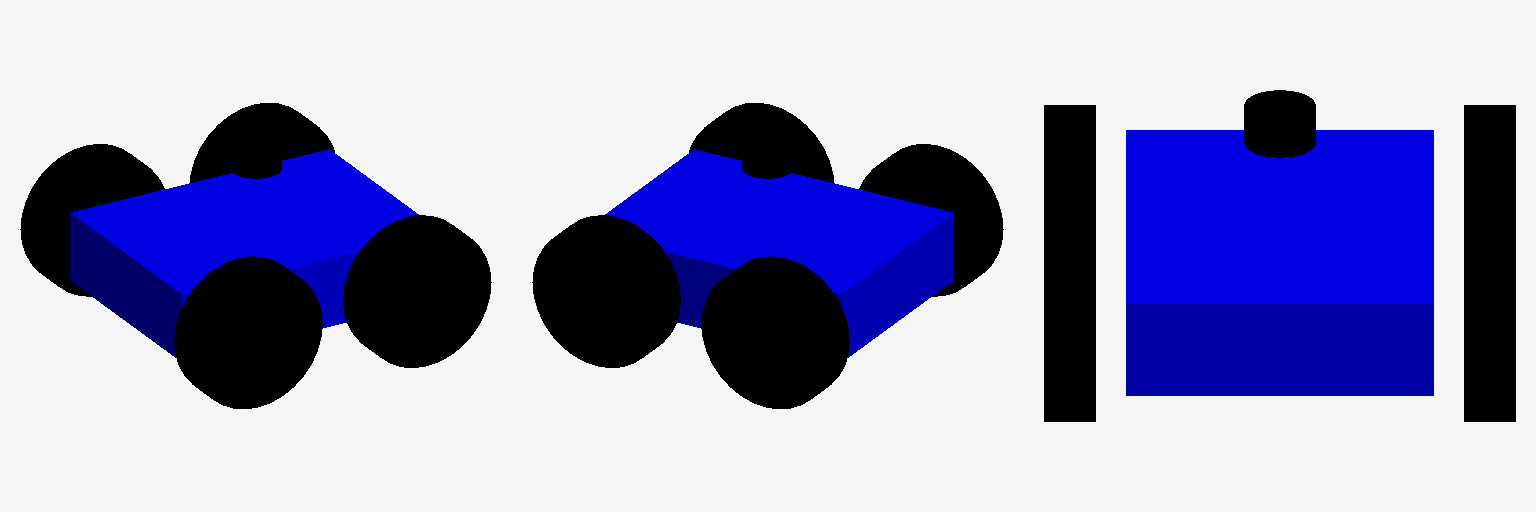
The robot description file, URDF, robot "simple_car":
<?xml version="1.0"?>
<robot name="simple_car">

  <link name="base_footprint"/>

  <joint name="base_footprint_joint" type="fixed">
    <parent link="base_footprint"/>
    <child link="chassis"/>
    <origin xyz="0 0 0.1" rpy="0 0 0"/>
  </joint>

  <link name="chassis">
    <visual>
      <geometry><box size="0.4 0.3 0.1"/></geometry>
      <material name="blue"><color rgba="0.0 0.0 1.0 1.0"/></material>
    </visual>
    <collision>
      <geometry><box size="0.4 0.3 0.1"/></geometry>
    </collision>
    <inertial>
      <mass value="2.0"/>
      <inertia ixx="0.016" ixy="0.0" ixz="0.0" iyy="0.028" iyz="0.0" izz="0.041"/>
    </inertial>
  </link>

  <gazebo reference="chassis">
    <material>Gazebo/Blue</material>
  </gazebo>

  <link name="right_back_wheel">
    <visual>
      <geometry><cylinder length="0.05" radius="0.1"/></geometry>
      <material name="black"><color rgba="0.0 0.0 0.0 1.0"/></material>
    </visual>
    <collision>
      <geometry><cylinder length="0.05" radius="0.1"/></geometry>
    </collision>
    <inertial>
      <mass value="0.5"/>
      <inertia ixx="0.002" ixy="0.0" ixz="0.0" iyy="0.002" iyz="0.0" izz="0.001"/>
    </inertial>
  </link>

  <gazebo reference="right_back_wheel">
    <material>Gazebo/Black</material>
  </gazebo>

  <joint name="right_back_wheel_joint" type="continuous">
    <parent link="chassis"/>
    <child link="right_back_wheel"/>
    <origin xyz="-0.13 -0.205 0.0" rpy="-1.5708 0 0"/>
    <axis xyz="0 0 1"/>
  </joint>

  <link name="left_back_wheel">
    <visual>
      <geometry><cylinder length="0.05" radius="0.1"/></geometry>
      <material name="black"><color rgba="0.0 0.0 0.0 1.0"/></material>
    </visual>
    <collision>
      <geometry><cylinder length="0.05" radius="0.1"/></geometry>
    </collision>
    <inertial>
      <mass value="0.5"/>
      <inertia ixx="0.002" ixy="0.0" ixz="0.0" iyy="0.002" iyz="0.0" izz="0.001"/>
    </inertial>
  </link>

  <gazebo reference="left_back_wheel">
    <material>Gazebo/Black</material>
  </gazebo>

  <joint name="left_back_wheel_joint" type="continuous">
    <parent link="chassis"/>
    <child link="left_back_wheel"/>
    <origin xyz="-0.13 0.205 0.0" rpy="-1.5708 0 0"/>
    <axis xyz="0 0 1"/>
  </joint>

  <link name="right_top_wheel">
    <visual>
      <geometry><cylinder length="0.05" radius="0.1"/></geometry>
      <material name="black"><color rgba="0.0 0.0 0.0 1.0"/></material>
    </visual>
    <collision>
      <geometry><cylinder length="0.05" radius="0.1"/></geometry>
    </collision>
    <inertial>
      <mass value="0.5"/>
      <inertia ixx="0.002" ixy="0.0" ixz="0.0" iyy="0.002" iyz="0.0" izz="0.001"/>
    </inertial>
  </link>

  <gazebo reference="right_top_wheel">
    <material>Gazebo/Black</material>
  </gazebo>

  <joint name="right_top_wheel_joint" type="continuous">
    <parent link="chassis"/>
    <child link="right_top_wheel"/>
    <origin xyz="0.13 -0.205 0.0" rpy="-1.5708 0 0"/>
    <axis xyz="0 0 1"/>
  </joint>

  <link name="left_top_wheel">
    <visual>
      <geometry><cylinder length="0.05" radius="0.1"/></geometry>
      <material name="black"><color rgba="0.0 0.0 0.0 1.0"/></material>
    </visual>
    <collision>
      <geometry><cylinder length="0.05" radius="0.1"/></geometry>
    </collision>
    <inertial>
      <mass value="0.5"/>
      <inertia ixx="0.002" ixy="0.0" ixz="0.0" iyy="0.002" iyz="0.0" izz="0.001"/>
    </inertial>
  </link>

  <gazebo reference="left_top_wheel">
    <material>Gazebo/Black</material>
  </gazebo>

  <joint name="left_top_wheel_joint" type="continuous">
    <parent link="chassis"/>
    <child link="left_top_wheel"/>
    <origin xyz="0.13 0.205 0.0" rpy="-1.5708 0 0"/>
    <axis xyz="0 0 1"/>
  </joint>

  <!-- Gazebo 控制插件 -->
  <gazebo>
    <plugin name="gazebo_ros_skid_steer_drive" filename="libgazebo_ros_diff_drive.so">
      <ros>
        <namespace>/</namespace>
        <remapping>cmd_vel:=cmd_vel</remapping>
        <remapping>odom:=odom</remapping>
      </ros>

      <num_wheel_pairs>2</num_wheel_pairs>

      <left_joint>left_top_wheel_joint</left_joint>
      <right_joint>right_top_wheel_joint</right_joint>

      <left_joint>left_back_wheel_joint</left_joint>
      <right_joint>right_back_wheel_joint</right_joint>

      <wheel_separation>0.41</wheel_separation>
      <wheel_diameter>0.20</wheel_diameter>
      <max_wheel_torque>20</max_wheel_torque>
      <max_wheel_acceleration>1.0</max_wheel_acceleration>

      <publish_odom>false</publish_odom>
      <publish_odom_tf>false</publish_odom_tf>
      <publish_wheel_tf>false</publish_wheel_tf>

      <odometry_frame>odom</odometry_frame>
      <robot_base_frame>base_footprint</robot_base_frame>
    </plugin>
  </gazebo>


<!-- Mid-360 雷达传感器 -->
  <link name="livox_frame">

    <!-- 外观设置 -->
    <visual>
      <geometry><cylinder length="0.04" radius="0.035"/></geometry>
      <material name="black"><color rgba="0.0 0.0 0.0 1.0"/></material>
    </visual>

    <!-- 碰撞设置 -->
    <collision>   
      <origin xyz="0 0 0" rpy="0 0 0"/>
      <geometry>
        <cylinder length="0.04" radius="0.035"/>
      </geometry>
    </collision>

    <!-- 惯性设置 -->
    <inertial>   
      <mass value="0.2"/>   <!-- 质量 -->
      <inertia ixx="0.0001" ixy="0.0" ixz="0.0" iyy="0.0001" iyz="0.0" izz="0.0001"/>
    </inertial>
  </link>

  <!-- 链接 -->
  <joint name="livox_joint" type="fixed">
    <parent link="chassis"/>
    <child link="livox_frame"/>
    <origin xyz="0 0 0.15" rpy="0 0 0"/>
  </joint>

  <!-- 雷达传感器设置 Gazebo 插件配置 -->
  <gazebo reference="livox_frame">
    <sensor type="ray" name="livox_mid360">
      <pose>0 0 0 0 0 0</pose>
      <always_on>true</always_on>
      <visualize>false</visualize>
      <update_rate>10</update_rate>

      <ray>
          <scan>
            <horizontal>
              <samples>360</samples>
              <resolution>1</resolution>
              <min_angle>-3.14159</min_angle>
              <max_angle>3.14159</max_angle>
            </horizontal>
            <vertical>
              <samples>50</samples>
              <resolution>1</resolution>
              <min_angle>-0.126</min_angle>
              <max_angle>0.963</max_angle>
            </vertical>
          </scan>
          <range>
            <min>0.1</min>
            <max>40.0</max>
            <resolution>0.01</resolution>
          </range>
          <noise>
            <type>gaussian</type>
            <mean>0.0</mean>
            <stddev>0.01</stddev>
          </noise>
      </ray>

      <plugin name="gazebo_ros_ray_sensor" filename="libgazebo_ros_ray_sensor.so">
        <ros>
          <namespace>/</namespace>
          <remapping>~/out:=/livox/lidar</remapping>   <!-- 强制映射 -->
        </ros>
        <output_type>sensor_msgs/PointCloud2</output_type>
        <frame_name>livox_frame</frame_name>
      </plugin>

    </sensor>


    <!-- imu 传感器 -->
    <sensor name="lidar_imu" type="imu">
      <always_on>true</always_on>
      <update_rate>200</update_rate> <visualize>false</visualize>

      <plugin name="lidar_imu_plugin" filename="libgazebo_ros_imu_sensor.so">
        <ros>
          <namespace>/</namespace>
          <remapping>~/out:=/livox/imu</remapping> </ros>
        <initial_orientation_as_reference>false</initial_orientation_as_reference>
      </plugin>

      <imu>
        <angular_velocity>
          <x><noise type="gaussian"><mean>0.0</mean><stddev>2e-4</stddev></noise></x>
          <y><noise type="gaussian"><mean>0.0</mean><stddev>2e-4</stddev></noise></y>
          <z><noise type="gaussian"><mean>0.0</mean><stddev>2e-4</stddev></noise></z>
        </angular_velocity>
        <linear_acceleration>
          <x><noise type="gaussian"><mean>0.0</mean><stddev>1.7e-2</stddev></noise></x>
          <y><noise type="gaussian"><mean>0.0</mean><stddev>1.7e-2</stddev></noise></y>
          <z><noise type="gaussian"><mean>0.0</mean><stddev>1.7e-2</stddev></noise></z>
        </linear_acceleration>
      </imu>

    </sensor>
  </gazebo>

</robot>

--- What the picture shows (computed from the rendered views, not written in the file) ---
The picture shows the robot from 3 angles, left to right: view 1: azimuth 30°, elevation 25°; view 2: azimuth 150°, elevation 25°; view 3: azimuth 270°, elevation 25°; orthographic projection.
Robot: simple_car — 7 links, 6 joints (4 continuous, 2 fixed); root link base_footprint; default pose: every joint at zero.
Visible links, largest first — view 1: chassis, right_back_wheel, right_top_wheel, left_back_wheel, left_top_wheel, livox_frame; view 2: chassis, left_back_wheel, left_top_wheel, right_back_wheel, right_top_wheel, livox_frame; view 3: chassis, right_top_wheel, left_top_wheel, right_back_wheel, left_back_wheel, livox_frame.
Link boxes in pixels (x1,y1,x2,y2): chassis: (70,149,418,357); right_back_wheel: (174,256,322,408); right_top_wheel: (343,215,491,367); left_back_wheel: (20,144,164,296); left_top_wheel: (190,103,334,182); livox_frame: (230,129,281,178); chassis: (605,149,953,357); left_back_wheel: (701,256,849,408); left_top_wheel: (532,215,680,367); right_back_wheel: (859,144,1003,296); right_top_wheel: (689,103,833,182); livox_frame: (742,129,793,178); chassis: (1126,130,1433,395); right_top_wheel: (1044,217,1095,421); left_top_wheel: (1464,217,1515,421); right_back_wheel: (1044,105,1095,216); left_back_wheel: (1464,105,1515,216); livox_frame: (1244,90,1315,157).
Size in the robot's own frame: 0.46 by 0.46 by 0.27 metres.
Geometry: primitives only (box / cylinder / sphere), no mesh files.
